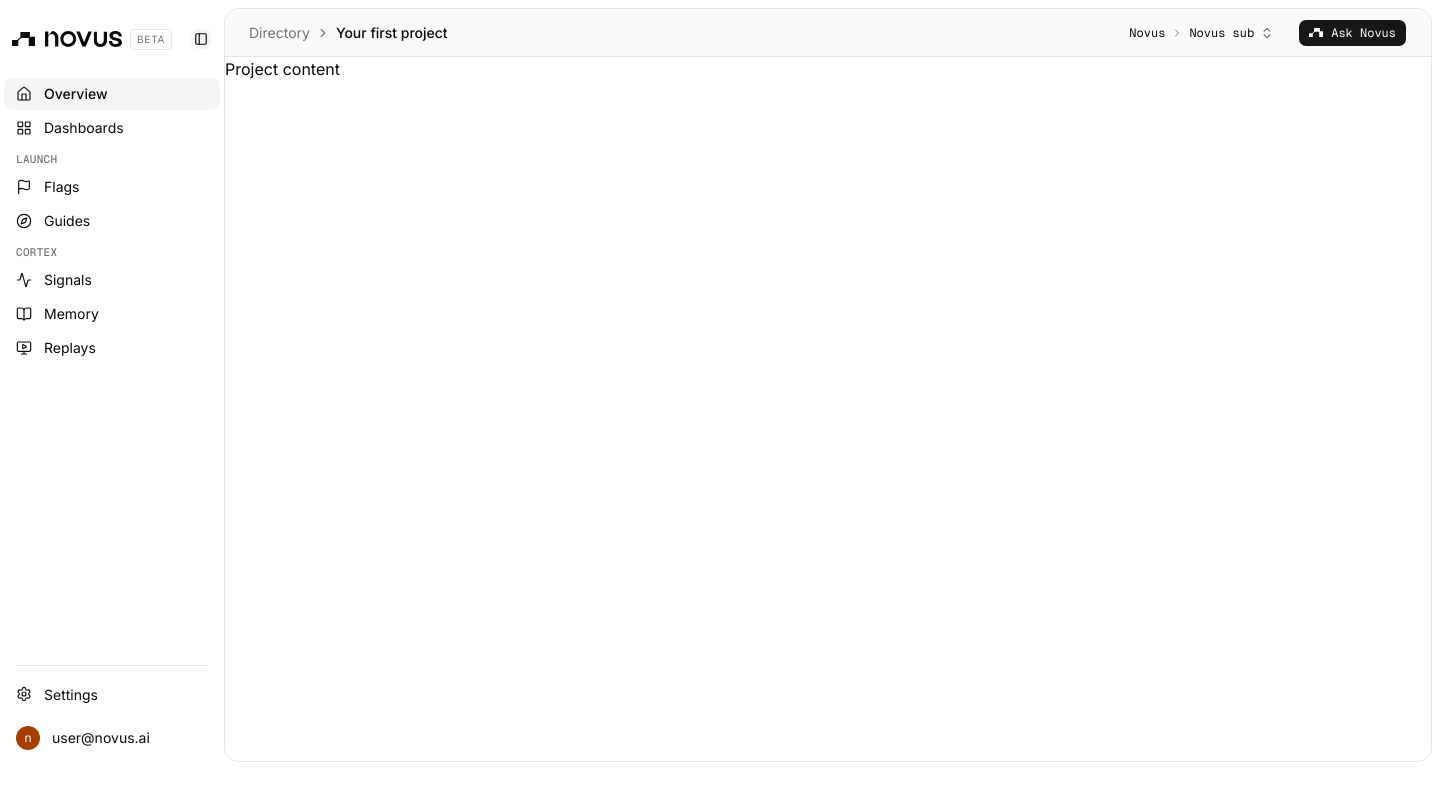
Test: AppShell › lets people collapse and expand the navigation
Click the button named "Collapse navigation": (201, 39) x1=190 y1=28 x2=212 y2=50
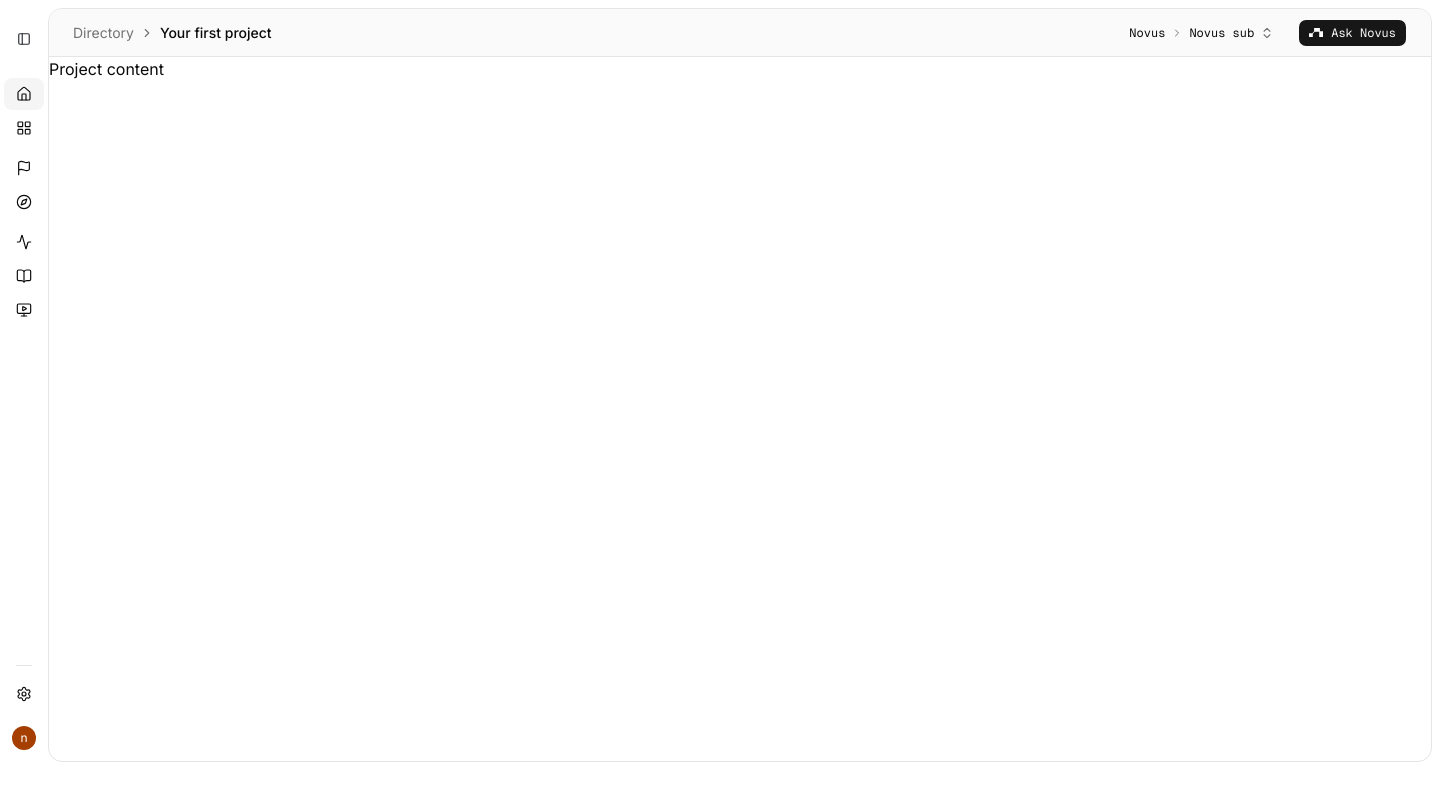
Now the button named "Expand navigation" is collapsed, box x1=13 y1=28 x2=35 y2=50
